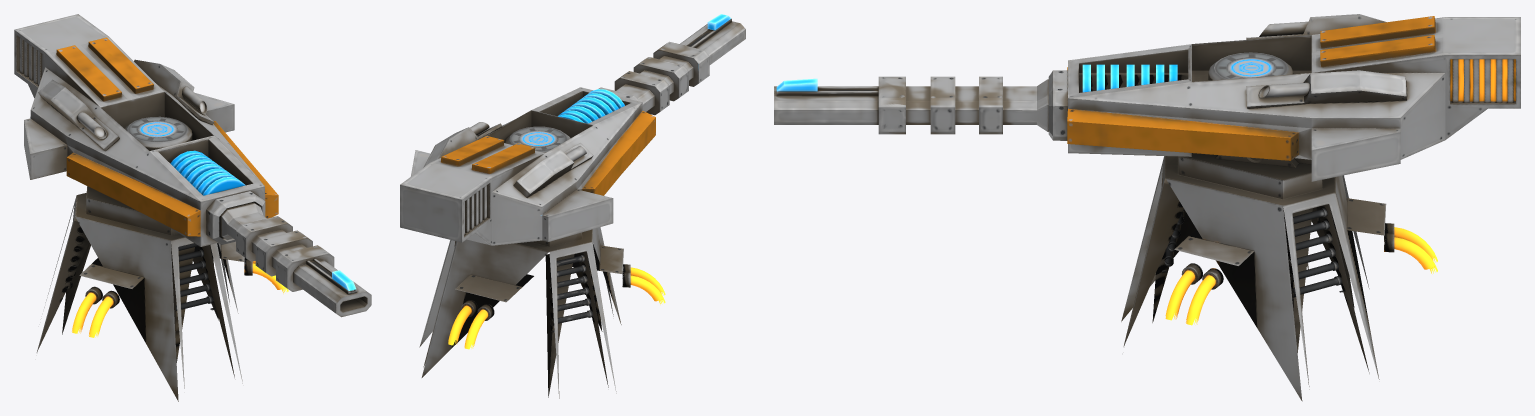
The model's file is rocket.glb.
3 renders of one model, left to right at view 1: azimuth 30°, elevation 25°; view 2: azimuth 150°, elevation 25°; view 3: azimuth 270°, elevation 25°, orthographic. The views are drawn at different scales.
Visible parts, largest first — view 1: rocket; view 2: rocket; view 3: rocket.
Part boxes in pixels (bbox=[...]): rocket: bbox=[14, 14, 371, 401]; rocket: bbox=[400, 14, 745, 398]; rocket: bbox=[774, 14, 1520, 401].
Size of the model in its own units: 0.4015 by 0.4591 by 1.
1 material, 1 textured.
